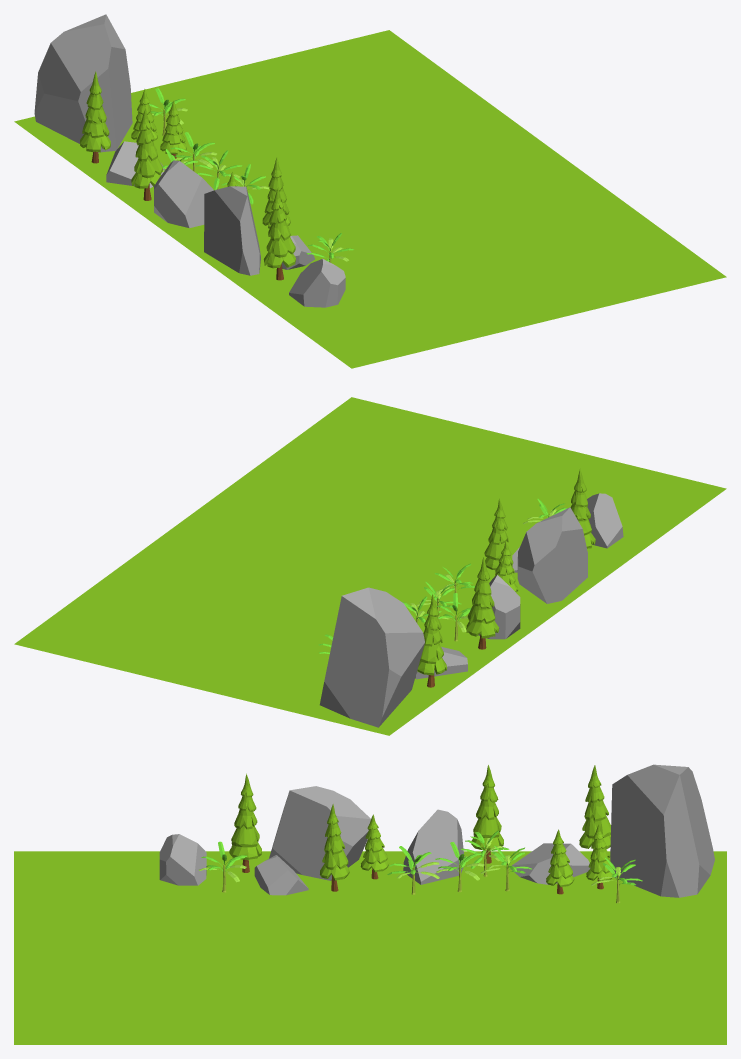
The model's file is jawa.glb.
The picture shows the model from 3 angles, top to bottom: view 1: azimuth 30°, elevation 25°; view 2: azimuth 150°, elevation 25°; view 3: azimuth 270°, elevation 25°; orthographic projection. The views are drawn at different scales.
Visible parts, largest first — view 1: Plane.006; view 2: Plane.006; view 3: Plane.006.
Boxes of the visible parts, x1,y1,x2,y2 form: Plane.006: (14,14,726,368); Plane.006: (14,397,726,735); Plane.006: (14,764,726,1044).
Size of the model in its own units: 81.12 by 22.84 by 126.
